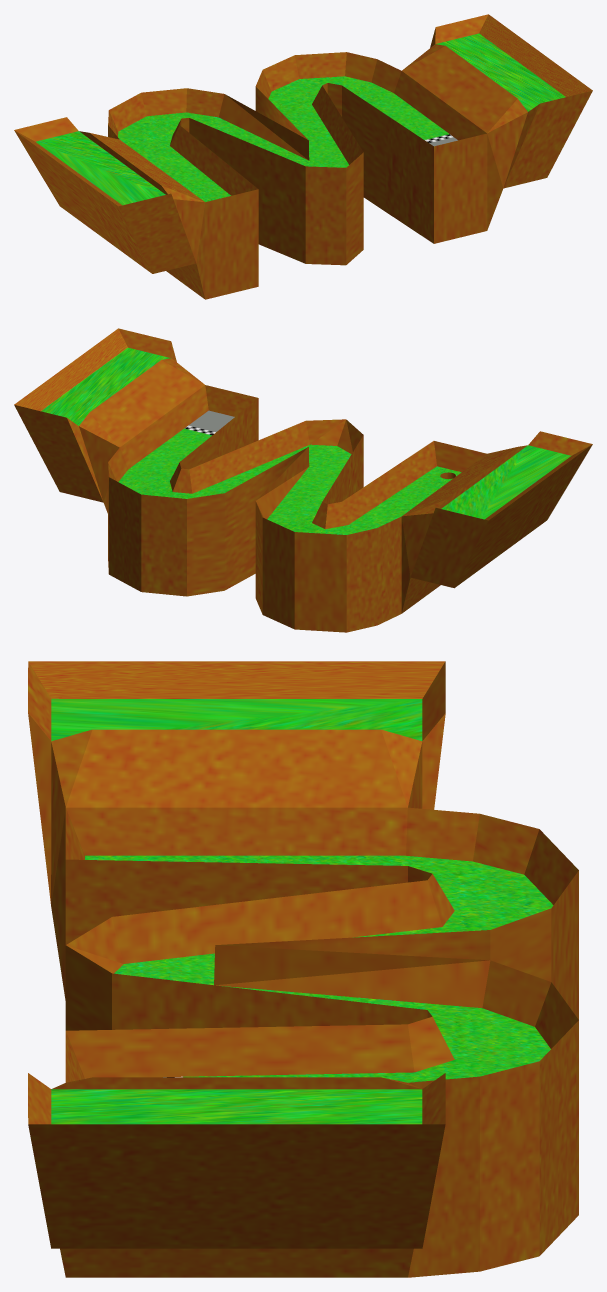
The model's file is Stage.FBX.
3 views of the same model, one above another, from view 1: azimuth 30°, elevation 25°; view 2: azimuth 150°, elevation 25°; view 3: azimuth 270°, elevation 25° (orthographic). The views are drawn at different scales.
Visible parts, largest first — view 1: Box001; view 2: Box001; view 3: Box001.
Part boxes in pixels (x1=…): Box001: x1=14, y1=14, x2=592, y2=299; Box001: x1=14, y1=328, x2=592, y2=632; Box001: x1=28, y1=661, x2=578, y2=1277.
Size of the model in its own units: 178 by 44.39 by 89.59.
1 material, 1 textured.
